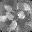people: (9, 20, 18, 31), (17, 11, 26, 20), (6, 12, 14, 20), (4, 5, 13, 12), (0, 16, 8, 23)
